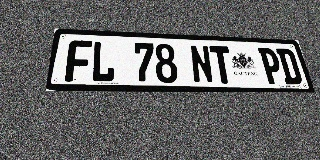7: (133, 43, 156, 83)
8: (154, 43, 178, 83)
D: (276, 48, 303, 84)
F: (65, 40, 92, 82)
L: (90, 41, 115, 82)
N: (189, 45, 214, 83)
P: (258, 48, 285, 84)
T: (209, 46, 235, 84)
